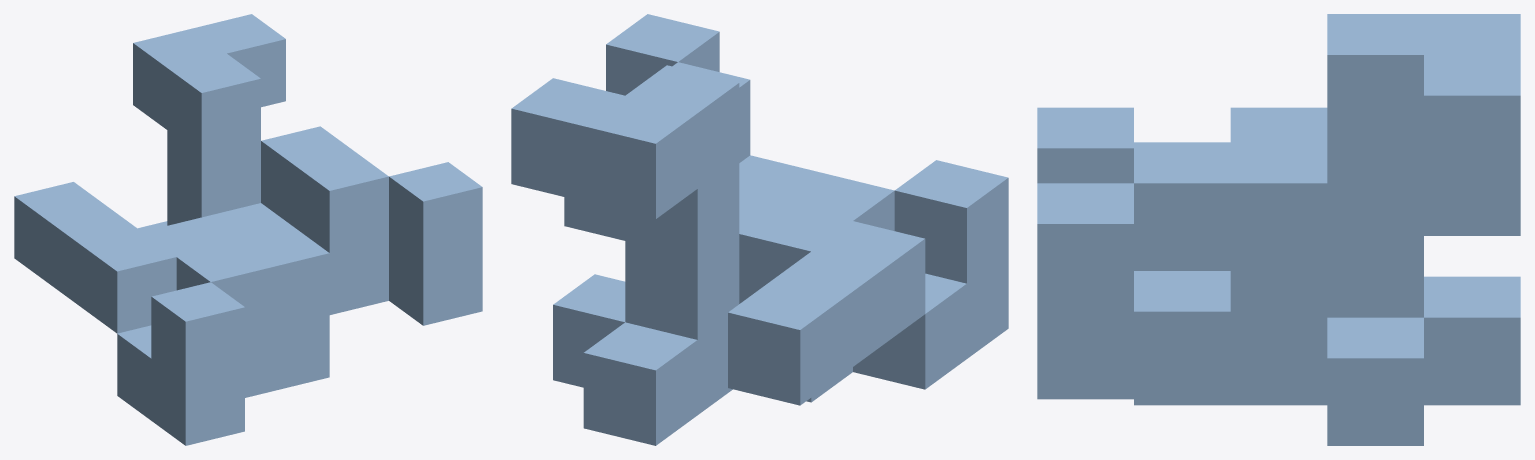
3 views of the same model, side by side, from view 1: azimuth 30°, elevation 25°; view 2: azimuth 150°, elevation 25°; view 3: azimuth 270°, elevation 25° (orthographic). The views are drawn at different scales.
Visible parts, largest first — view 1: _changes (2).007; view 2: _changes (2).007; view 3: _changes (2).007.
Part boxes in pixels (x1,y1,x2,y2): _changes (2).007: [14, 14, 482, 445]; _changes (2).007: [511, 14, 1008, 445]; _changes (2).007: [1037, 14, 1520, 445].
Bounding box in the file's own units: 0.1999 × 0.1599 × 0.1999.
